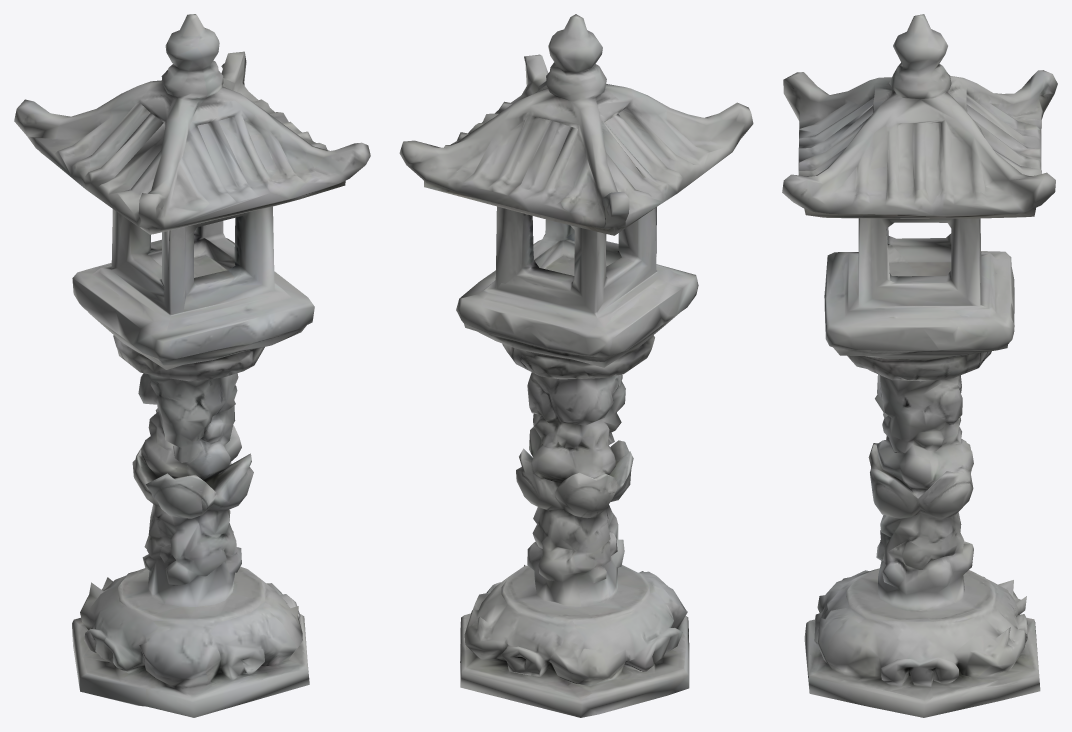
File: shideng.glb
3 renders of one model, left to right at view 1: azimuth 30°, elevation 25°; view 2: azimuth 150°, elevation 25°; view 3: azimuth 270°, elevation 25°, orthographic.
Visible parts, largest first — view 1: tripo_node_3ec8a0d1-58e1-4b71-9193-c5db85911fb3; view 2: tripo_node_3ec8a0d1-58e1-4b71-9193-c5db85911fb3; view 3: tripo_node_3ec8a0d1-58e1-4b71-9193-c5db85911fb3.
Part boxes in pixels (box(x1,y1,x2,y2)): tripo_node_3ec8a0d1-58e1-4b71-9193-c5db85911fb3: box(14, 14, 370, 717); tripo_node_3ec8a0d1-58e1-4b71-9193-c5db85911fb3: box(399, 14, 753, 717); tripo_node_3ec8a0d1-58e1-4b71-9193-c5db85911fb3: box(782, 14, 1057, 717).
Size of the model in its own units: 0.3735 by 1 by 0.3827.
1 material, 1 textured.
